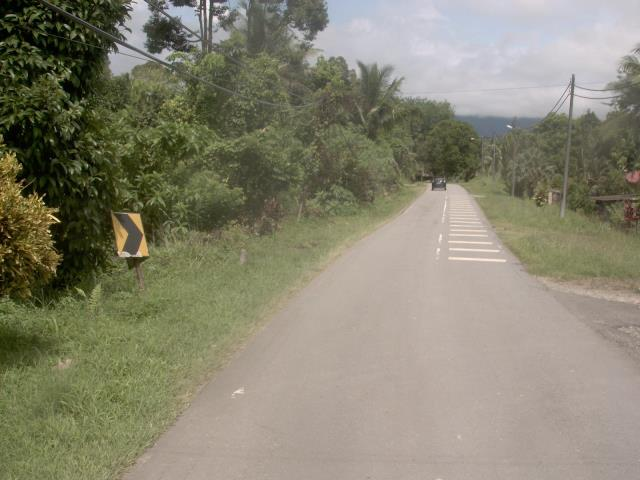traffic_sign: (102, 204, 157, 267)
